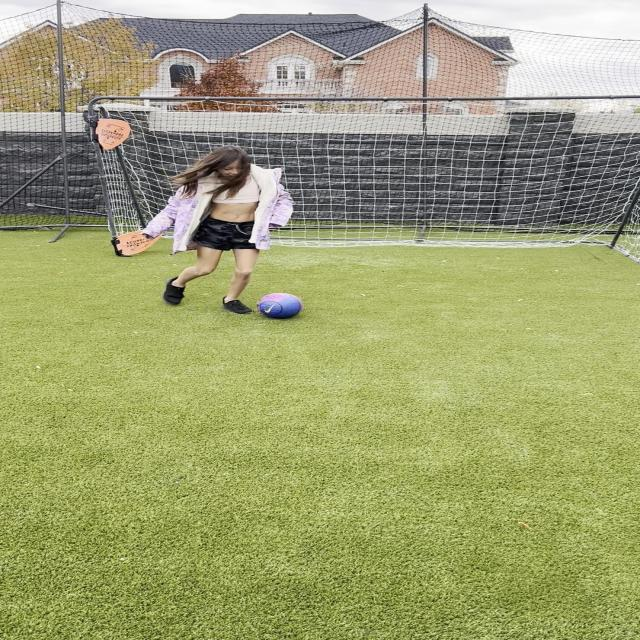Soccer Ball: (256, 292, 303, 319)
